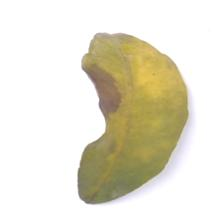black spot: (64, 58, 132, 120)
